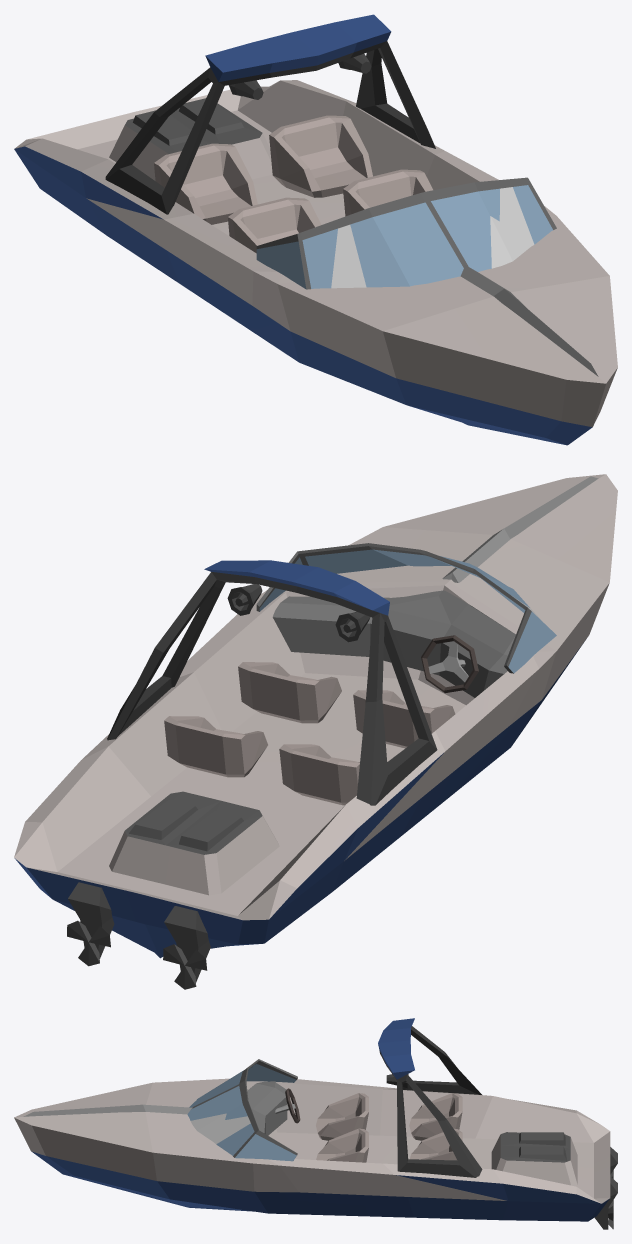
Rendered from Boat B.fbx.
3 views of the same model, one above another, from view 1: azimuth 30°, elevation 25°; view 2: azimuth 150°, elevation 25°; view 3: azimuth 270°, elevation 25° (orthographic). The views are drawn at different scales.
Visible parts, largest first — view 1: Boat B; view 2: Boat B; view 3: Boat B.
Boxes of the visible parts, bbox=[...] form: Boat B: bbox=[14, 14, 617, 445]; Boat B: bbox=[14, 474, 617, 989]; Boat B: bbox=[14, 1018, 617, 1229].
Bounding box in the file's own units: 208 × 194 × 601.
